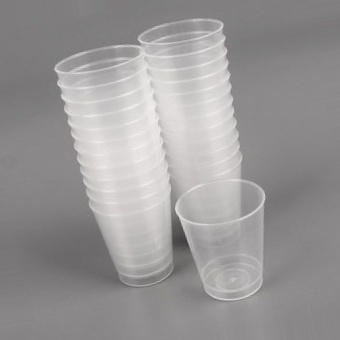plastic: (38, 45, 156, 173), (163, 185, 281, 306)
